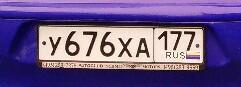license-plateSW: (37, 24, 205, 63)
